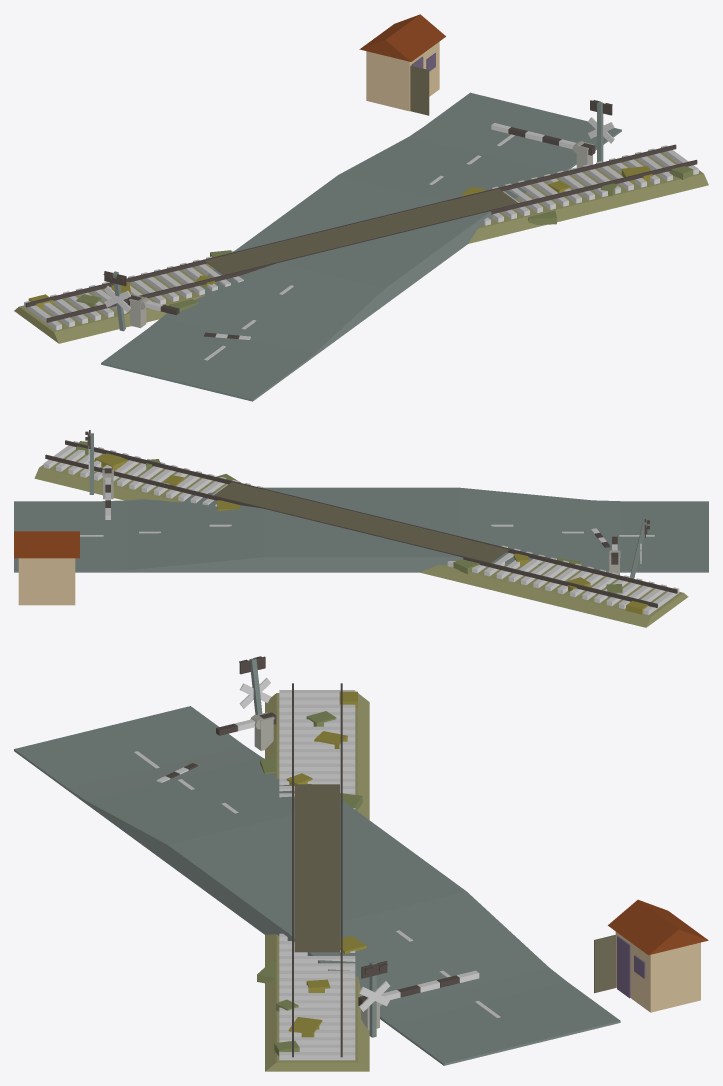
Rendered from SM_PasoNivel_30E_v2_Abandonado_LOD0.fbx.
The picture shows the model from 3 angles, top to bottom: view 1: azimuth 30°, elevation 25°; view 2: azimuth 150°, elevation 25°; view 3: azimuth 270°, elevation 25°; orthographic projection. The views are drawn at different scales.
Parts seen in each view (by area): view 1: SM_paso_nivel_kit_v37_LOD0, Barrera_1; view 2: SM_paso_nivel_kit_v37_LOD0, Barrera_1; view 3: SM_paso_nivel_kit_v37_LOD0, Barrera_1.
Boxes of the visible parts, bbox=[...] form: SM_paso_nivel_kit_v37_LOD0: bbox=[14, 14, 708, 401]; Barrera_1: bbox=[491, 123, 595, 155]; SM_paso_nivel_kit_v37_LOD0: bbox=[14, 430, 708, 627]; Barrera_1: bbox=[103, 468, 112, 519]; SM_paso_nivel_kit_v37_LOD0: bbox=[14, 656, 708, 1071]; Barrera_1: bbox=[358, 970, 479, 1005].
Size of the model in its own units: 30 by 3.04 by 23.85.
